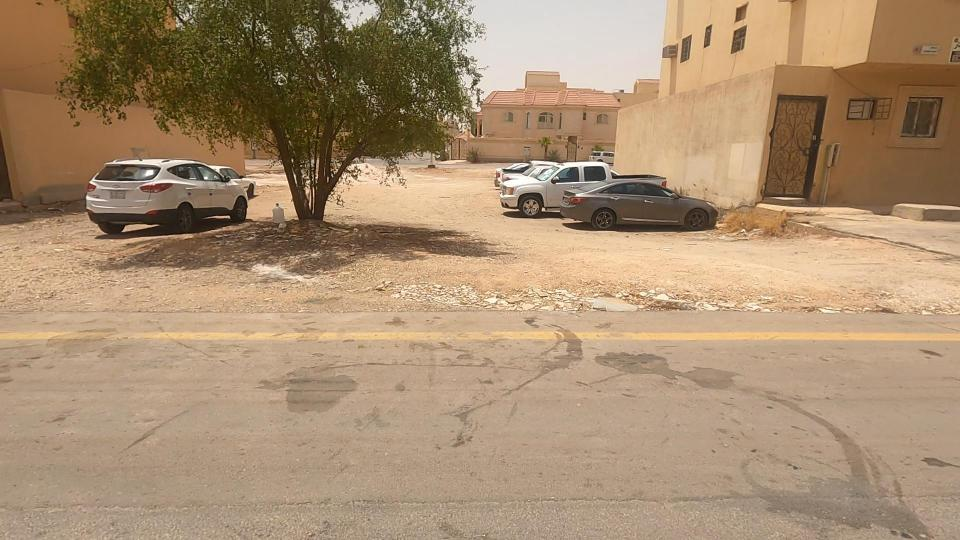GARBAGE: (227, 160, 329, 266)
